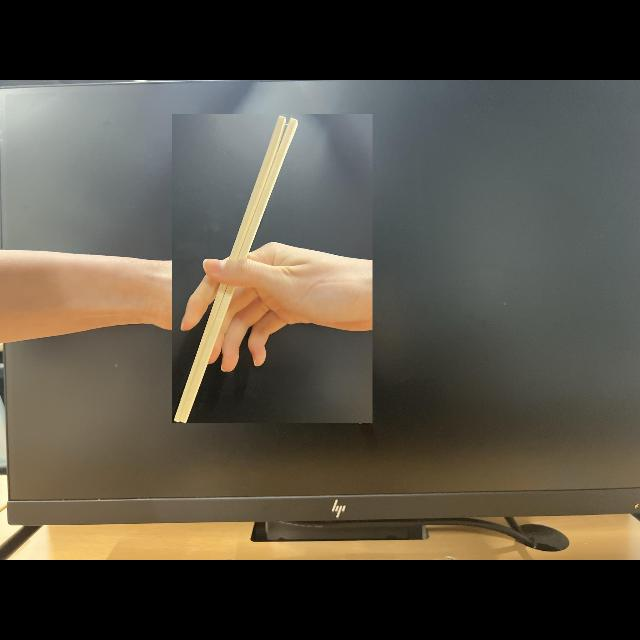stick: (172, 115, 372, 423)
